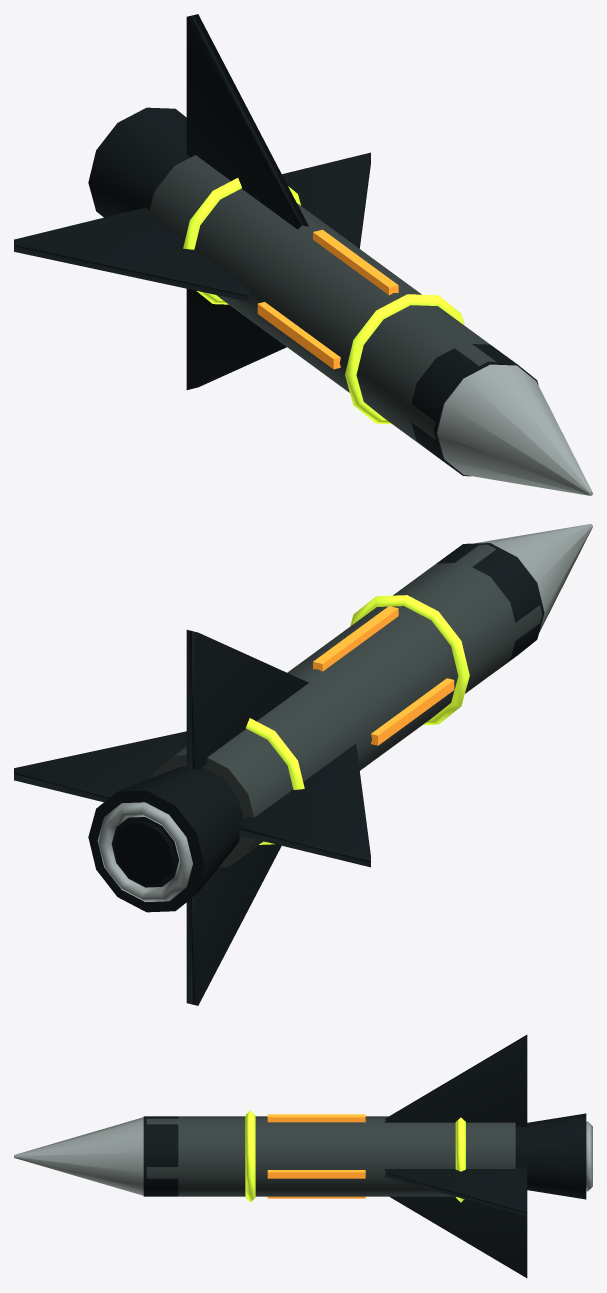
The model's file is micro-missile-lod2.glb.
3 renders of one model, top to bottom at view 1: azimuth 30°, elevation 25°; view 2: azimuth 150°, elevation 25°; view 3: azimuth 270°, elevation 25°, orthographic. The views are drawn at different scales.
Visible parts, largest first — view 1: fuselage__Cerakote_graphite_armor, control-fins__Recessed_carbon_mechanism, nose__Machined_titanium, nozzle__Recessed_carbon_mechanism, fuselage-bands__Velocity_chartreuse_identification, nose__Recessed_carbon_mechanism, identification__Amber_safety_identification; view 2: fuselage__Cerakote_graphite_armor, control-fins__Recessed_carbon_mechanism, nozzle__Recessed_carbon_mechanism, nose__Machined_titanium, nozzle__Machined_titanium, fuselage-bands__Velocity_chartreuse_identification, nose__Recessed_carbon_mechanism, nozzle__Vibration_isolator, identification__Amber_safety_identification; view 3: fuselage__Cerakote_graphite_armor, control-fins__Recessed_carbon_mechanism, nose__Machined_titanium, nozzle__Recessed_carbon_mechanism, nose__Recessed_carbon_mechanism, identification__Amber_safety_identification, fuselage-bands__Velocity_chartreuse_identification, nozzle__Machined_titanium.
Part boxes in pixels (x1=…): fuselage__Cerakote_graphite_armor: x1=148, y1=155, x2=495, y2=454; control-fins__Recessed_carbon_mechanism: x1=14, y1=14, x2=370, y2=389; nose__Machined_titanium: x1=437, y1=364, x2=592, y2=495; nozzle__Recessed_carbon_mechanism: x1=88, y1=107, x2=189, y2=217; fuselage-bands__Velocity_chartreuse_identification: x1=183, y1=178, x2=464, y2=424; nose__Recessed_carbon_mechanism: x1=411, y1=344, x2=538, y2=476; identification__Amber_safety_identification: x1=257, y1=229, x2=398, y2=369; fuselage__Cerakote_graphite_armor: x1=152, y1=544, x2=542, y2=867; control-fins__Recessed_carbon_mechanism: x1=14, y1=630, x2=370, y2=1005; nozzle__Recessed_carbon_mechanism: x1=88, y1=767, x2=243, y2=912; nose__Machined_titanium: x1=474, y1=524, x2=592, y2=632; nozzle__Machined_titanium: x1=97, y1=802, x2=192, y2=902; fuselage-bands__Velocity_chartreuse_identification: x1=246, y1=595, x2=469, y2=844; nose__Recessed_carbon_mechanism: x1=436, y1=543, x2=544, y2=673; nozzle__Vibration_isolator: x1=114, y1=821, x2=175, y2=884; identification__Amber_safety_identification: x1=313, y1=606, x2=454, y2=745; fuselage__Cerakote_graphite_armor: x1=146, y1=1116, x2=515, y2=1196; control-fins__Recessed_carbon_mechanism: x1=384, y1=1035, x2=527, y2=1277; nose__Machined_titanium: x1=14, y1=1117, x2=143, y2=1195; nozzle__Recessed_carbon_mechanism: x1=515, y1=1113, x2=586, y2=1199; nose__Recessed_carbon_mechanism: x1=143, y1=1116, x2=178, y2=1196; identification__Amber_safety_identification: x1=267, y1=1114, x2=365, y2=1198; fuselage-bands__Velocity_chartreuse_identification: x1=245, y1=1110, x2=465, y2=1202; nozzle__Machined_titanium: x1=586, y1=1121, x2=592, y2=1191.
Bounding box in the file's own units: 0.92 × 0.92 × 2.01.
